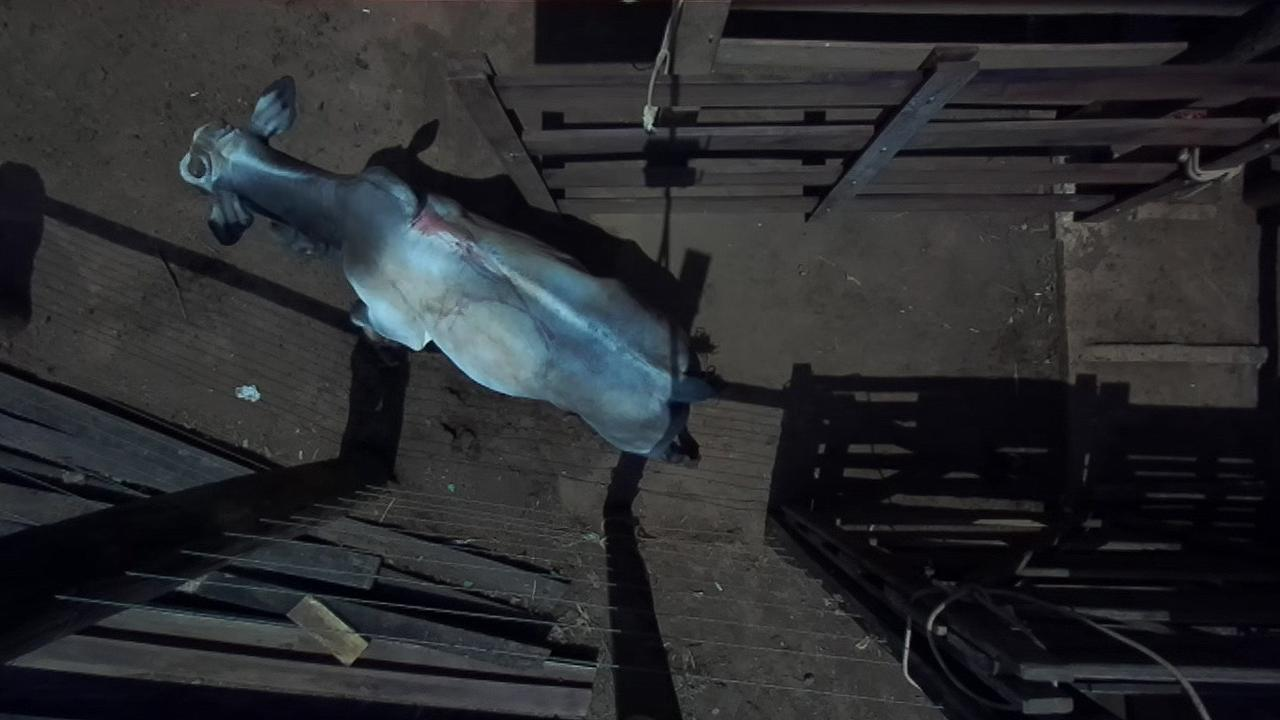cattle: (178, 73, 725, 468)
